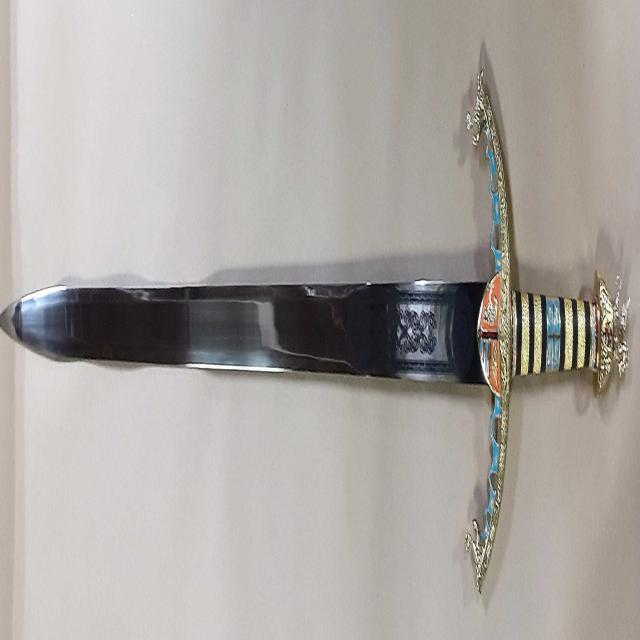sword: (1, 71, 631, 583)
